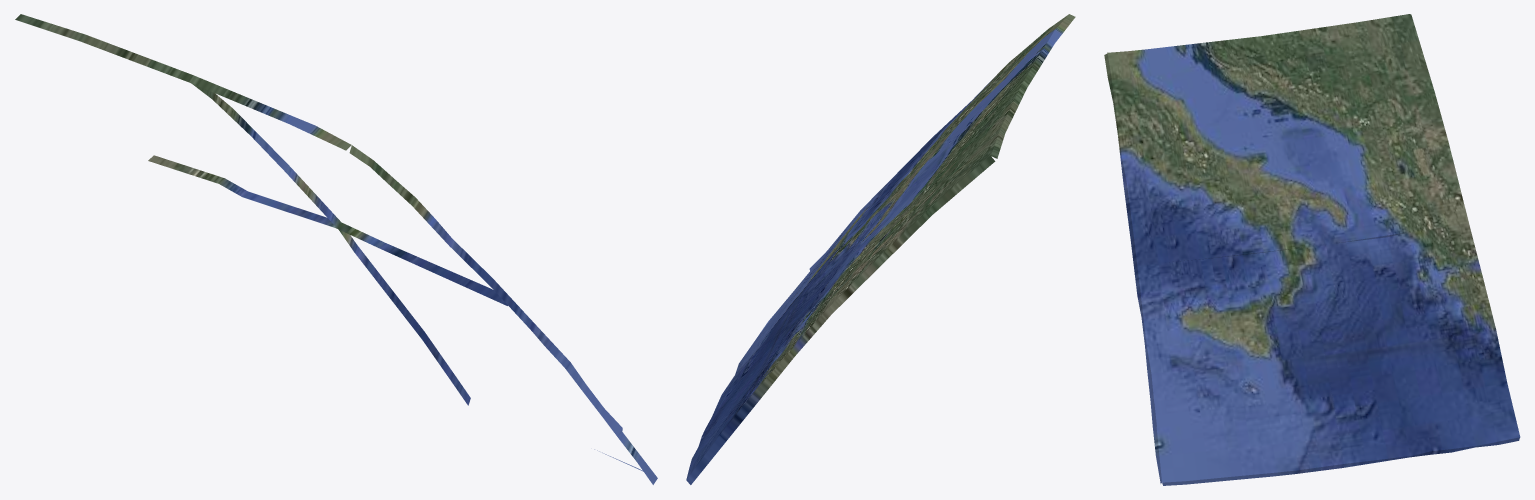
3 views of the same model, side by side, from view 1: azimuth 30°, elevation 25°; view 2: azimuth 150°, elevation 25°; view 3: azimuth 270°, elevation 25° (orthographic). The views are drawn at different scales.
Size of the model in its own units: 1053889 by 987464 by 1166066.
1 material, 1 textured.
